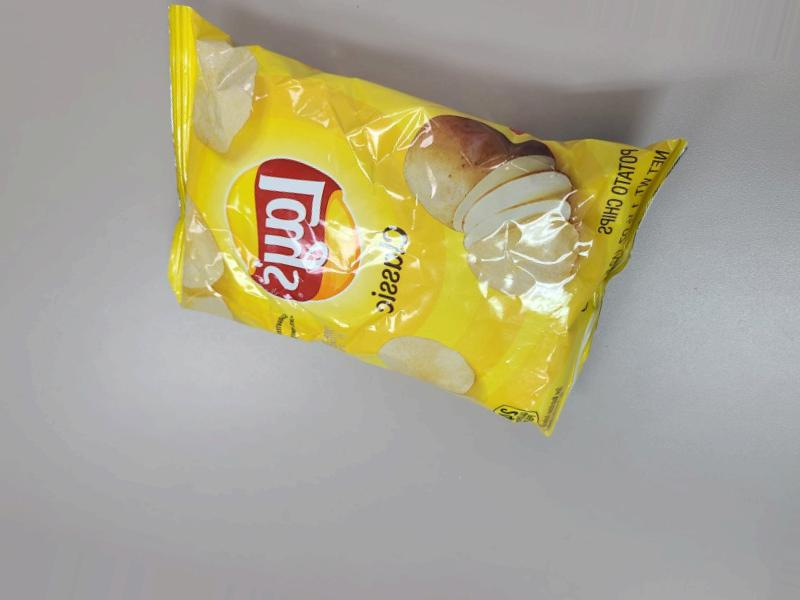lays: (197, 81, 750, 501)
